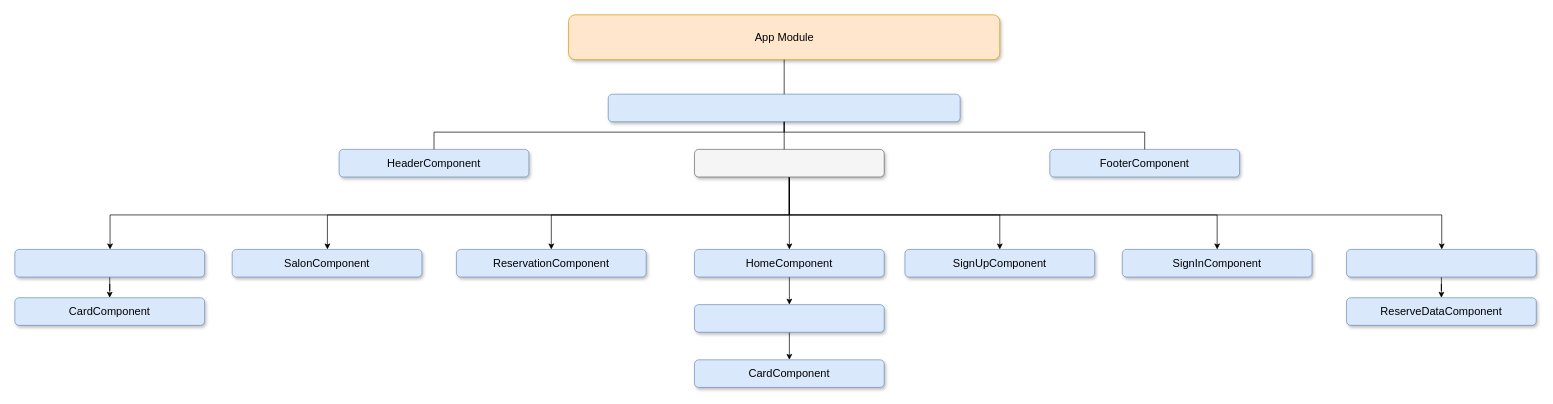
Some shapes in this 1553 by 404 pixel diagram are drawn without their labels. The centre of each missing label's shape, as x and y in pixels:
"<router-outlet>" goes at point 789,164.
"AppComponent" goes at point 784,109.
"CategoriesCardComponent" goes at point 789,319.
"ProfileComponent" goes at point 1441,264.
"ServicesComponent" goes at point 110,264.
